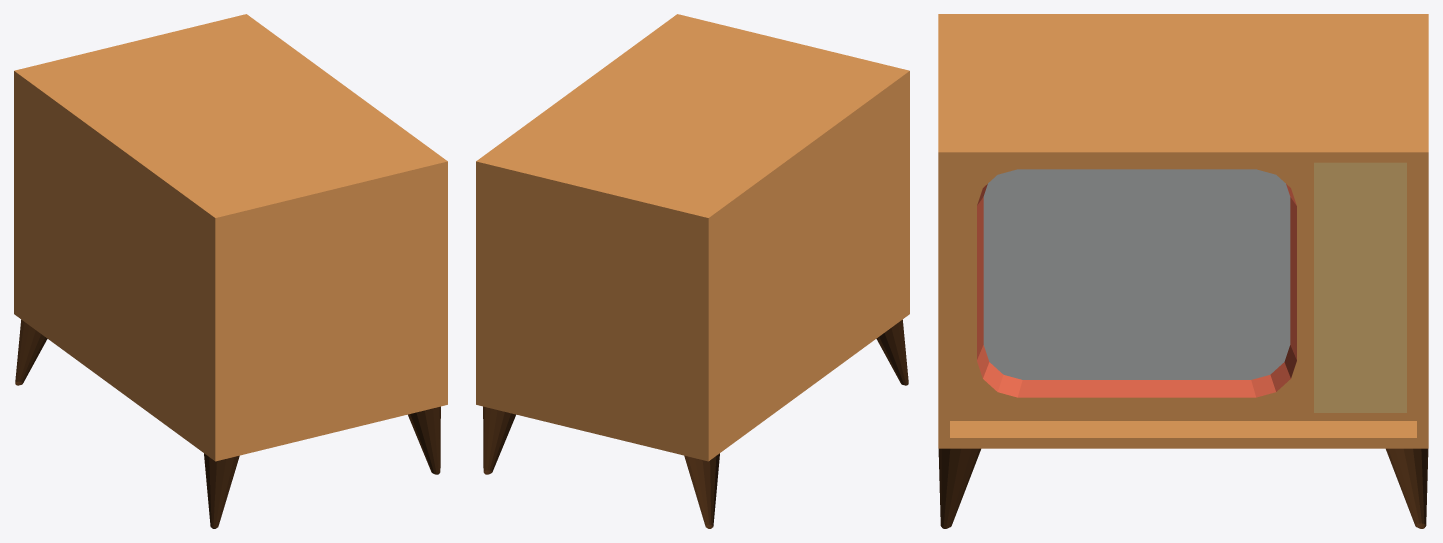
File: TV_com_pezinho.fbx
The picture shows the model from 3 angles, left to right: view 1: azimuth 30°, elevation 25°; view 2: azimuth 150°, elevation 25°; view 3: azimuth 270°, elevation 25°; orthographic projection. The views are drawn at different scales.
Visible parts, largest first — view 1: Tv com pezinho; view 2: Tv com pezinho; view 3: Tv com pezinho.
Boxes of the visible parts, <box> form: Tv com pezinho: <box>14,14,447,528</box>; Tv com pezinho: <box>476,14,909,528</box>; Tv com pezinho: <box>938,14,1428,528</box>.
Size of the model in its own units: 141 by 180 by 210.
